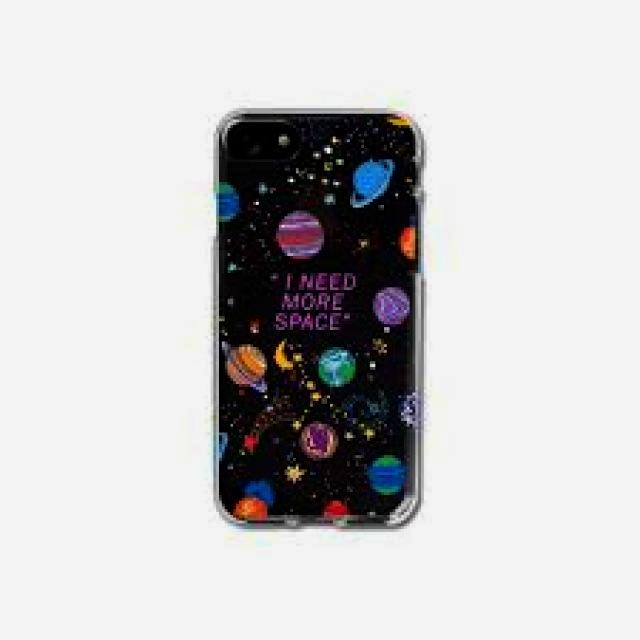lens: (220, 125, 271, 158)
phone: (205, 98, 432, 539)
